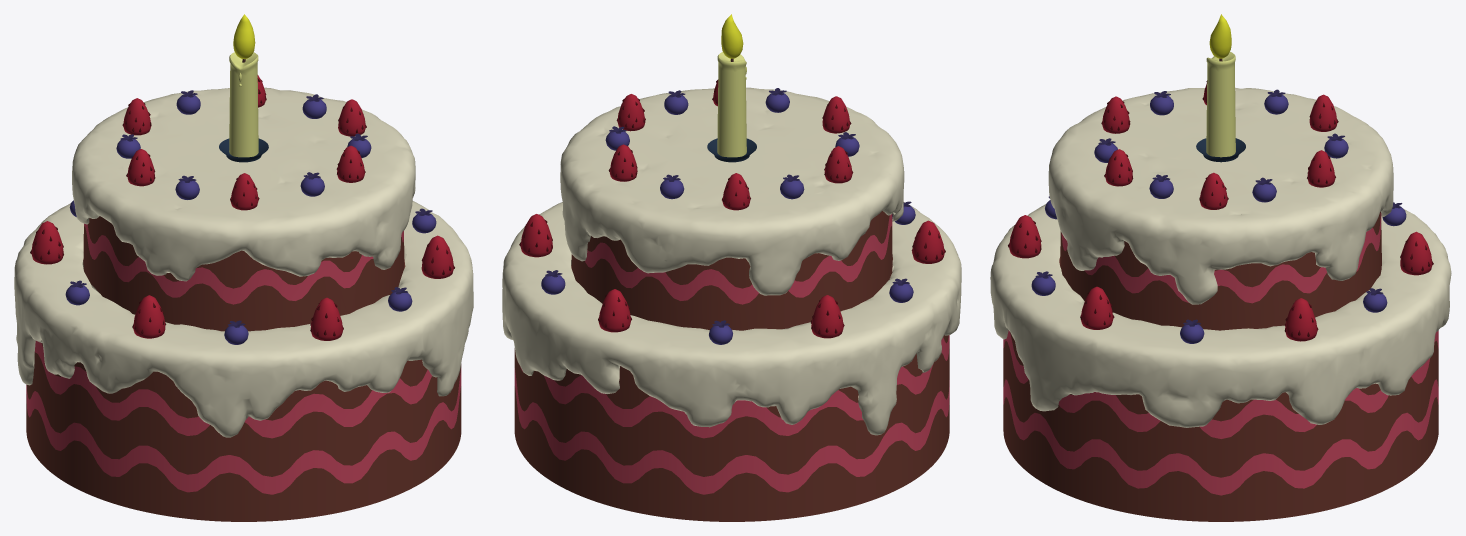
The model's file is cake.glb.
3 views of the same model, side by side, from view 1: azimuth 30°, elevation 25°; view 2: azimuth 150°, elevation 25°; view 3: azimuth 270°, elevation 25° (orthographic).
Parts seen in each view (by area): view 1: Birthday Cake_0; view 2: Birthday Cake_0; view 3: Birthday Cake_0.
Boxes of the visible parts, x1=… form: Birthday Cake_0: x1=14, y1=14, x2=473, y2=521; Birthday Cake_0: x1=502, y1=14, x2=961, y2=521; Birthday Cake_0: x1=990, y1=14, x2=1451, y2=521.
Bounding box in the file's own units: 0.3079 × 0.3065 × 0.3077.
